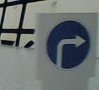right: (45, 20, 92, 69)
